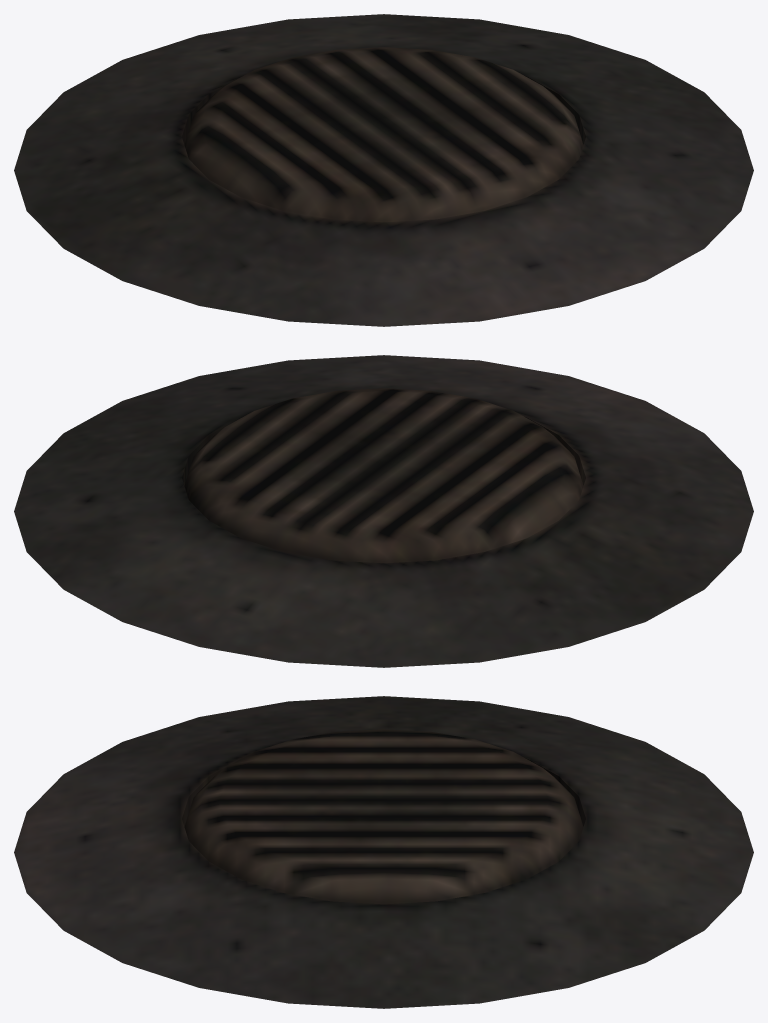
File: drain_cover_3.obj
The picture shows the model from 3 angles, top to bottom: view 1: azimuth 30°, elevation 25°; view 2: azimuth 150°, elevation 25°; view 3: azimuth 270°, elevation 25°; orthographic projection.
Visible parts, largest first — view 1: drain_cover_3; view 2: drain_cover_3; view 3: drain_cover_3.
Boxes of the visible parts, left/top/right/bottom form: drain_cover_3: left=14, top=14, right=753, bottom=326; drain_cover_3: left=14, top=355, right=753, bottom=667; drain_cover_3: left=14, top=696, right=753, bottom=1008.
Size of the model in its own units: 0.4 by 0.03 by 0.4.
